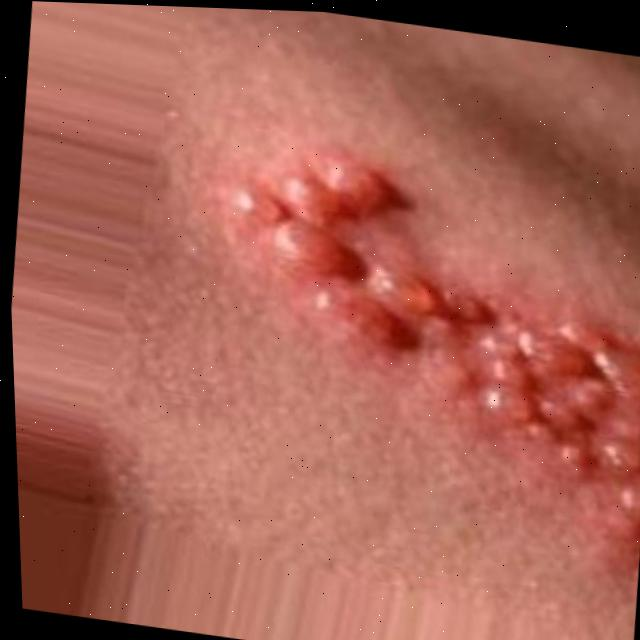Shingles: (205, 135, 640, 507)
